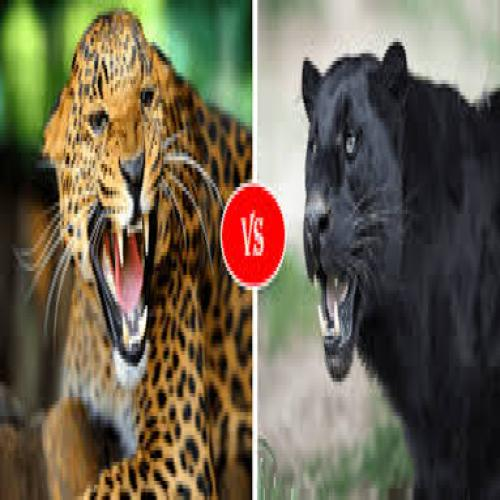panther-endangered: (300, 40, 500, 500)
